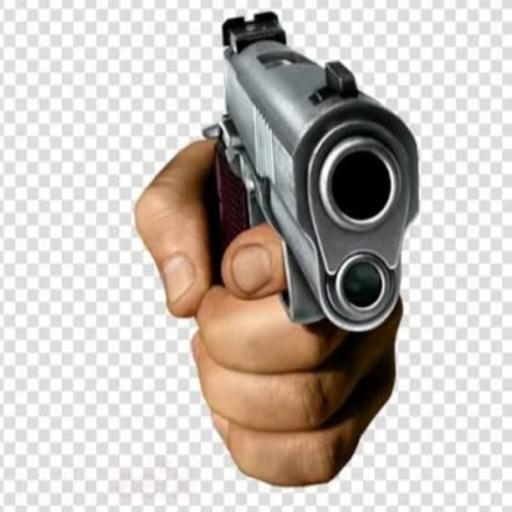Gun: (204, 13, 416, 330)
